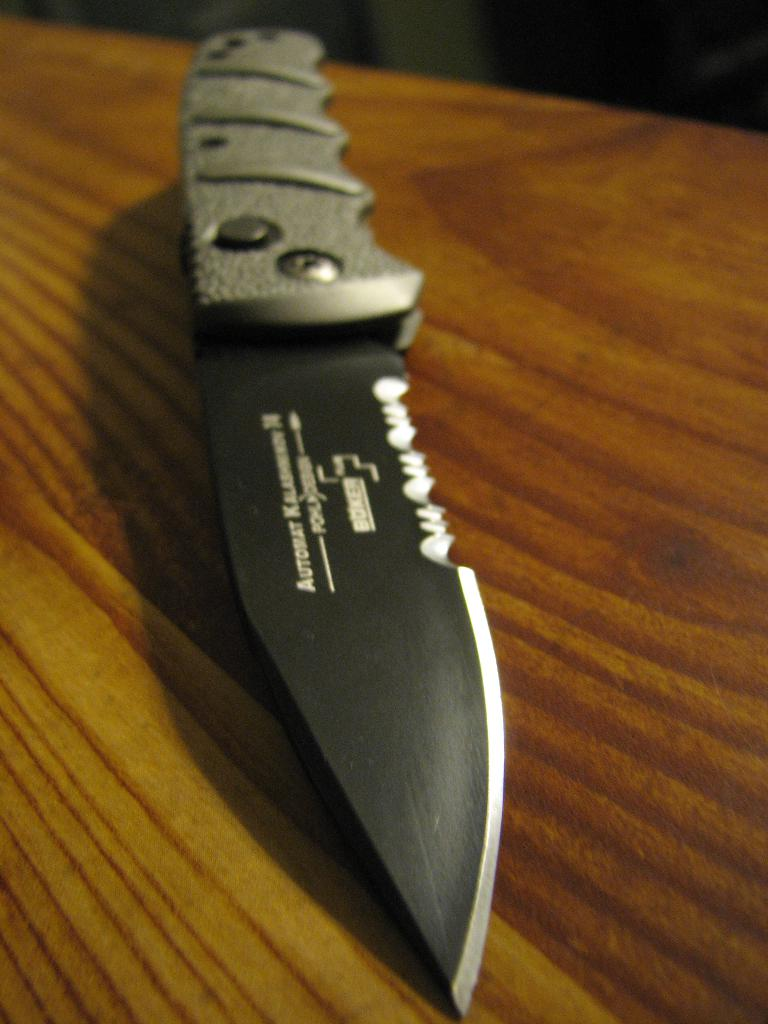knife: (177, 27, 503, 1019)
